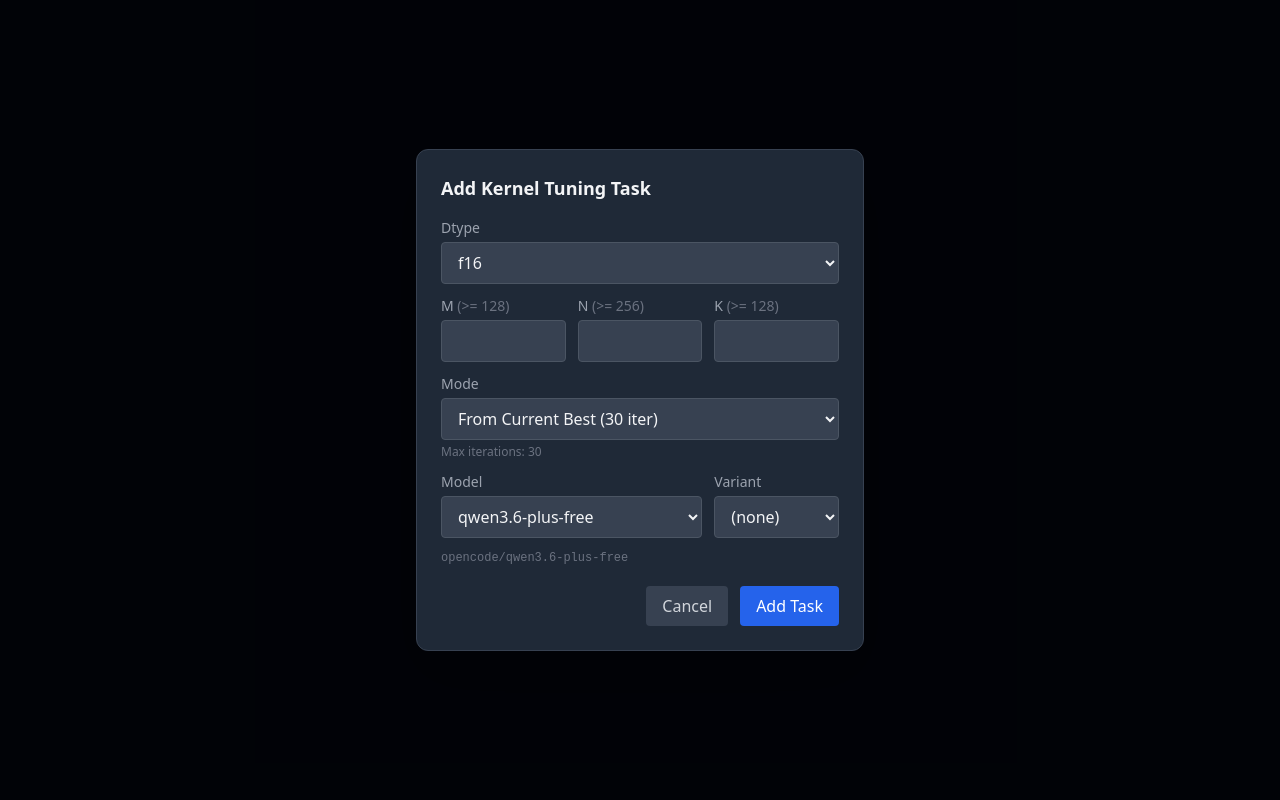
Test: AddTaskForm › shows validation error for N < 256
Type "256" into the 1st number field.
click(503, 341); type("256")  # box [441,320,566,362]
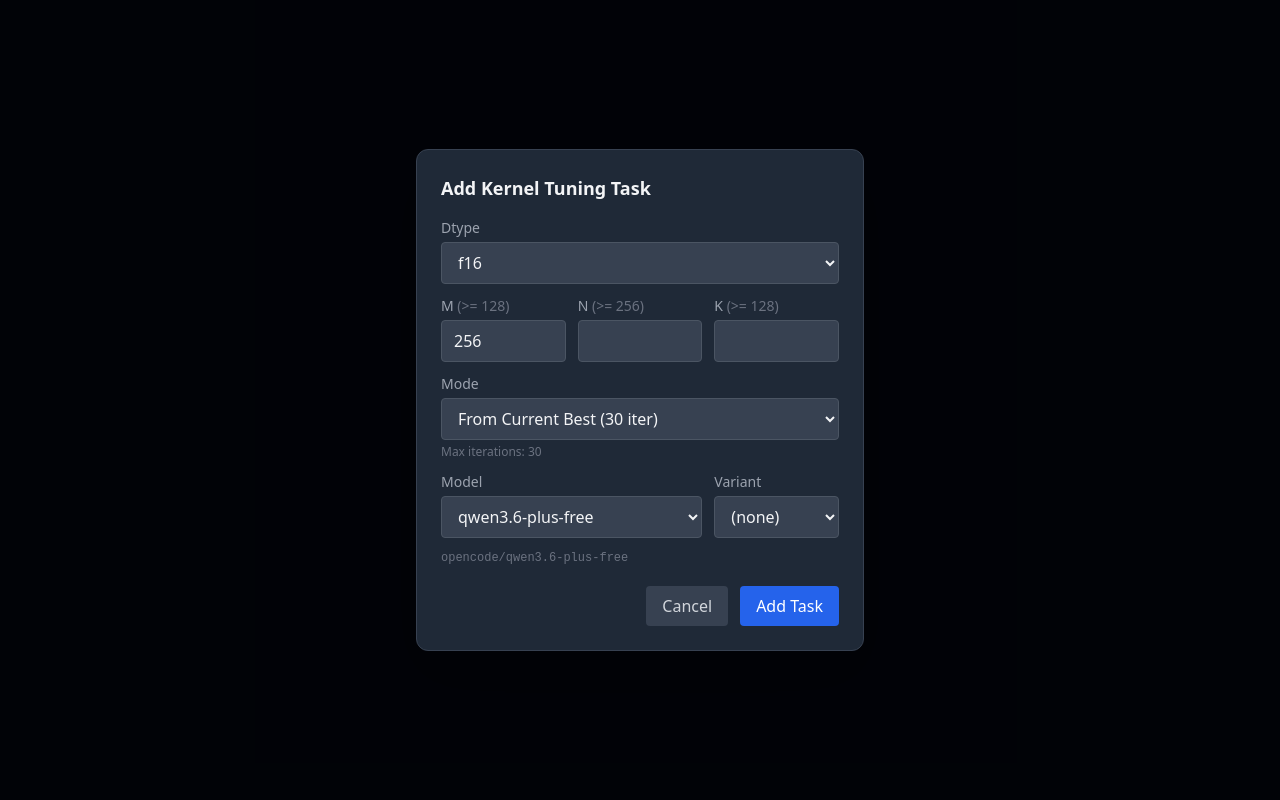
Type "128" into the number field below "256".
click(640, 341); type("128")  # box [578,320,702,362]
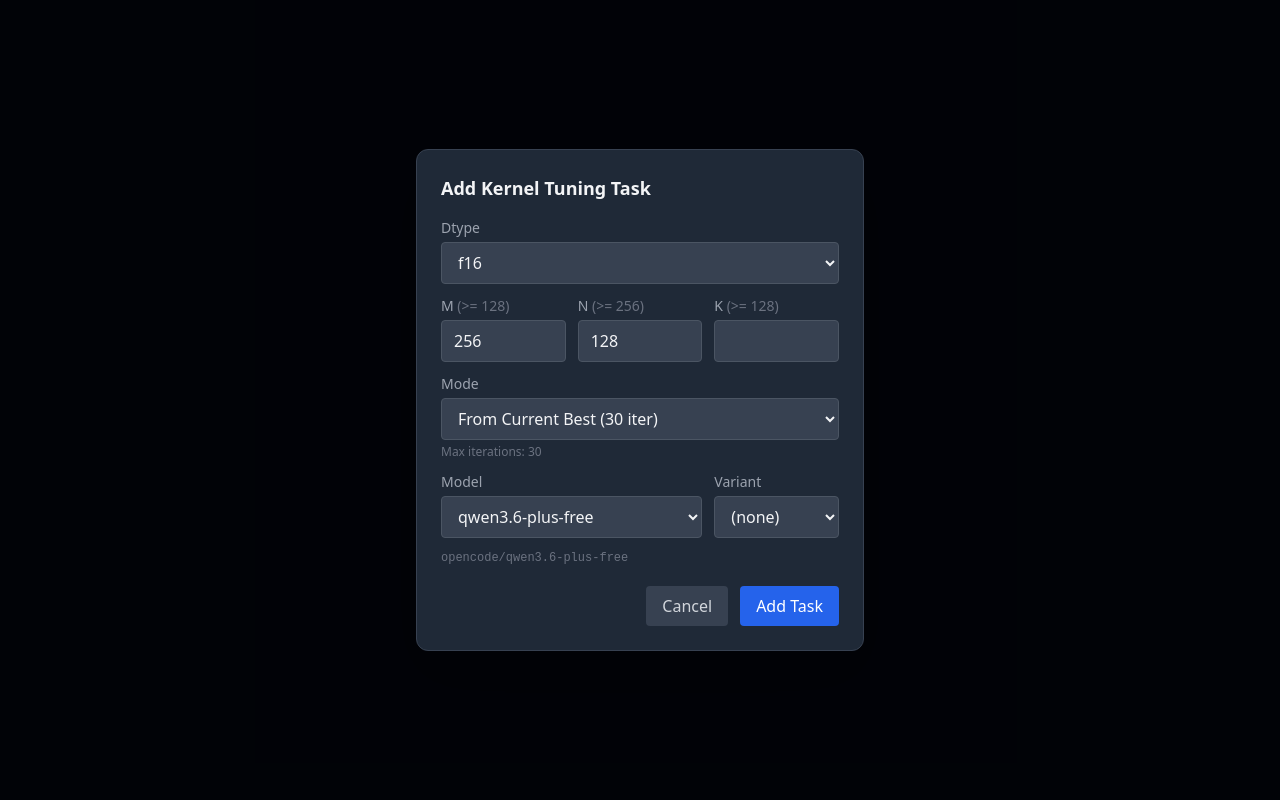
Type "512" into the 3rd number field.
click(777, 341); type("512")  # box [714,320,839,362]
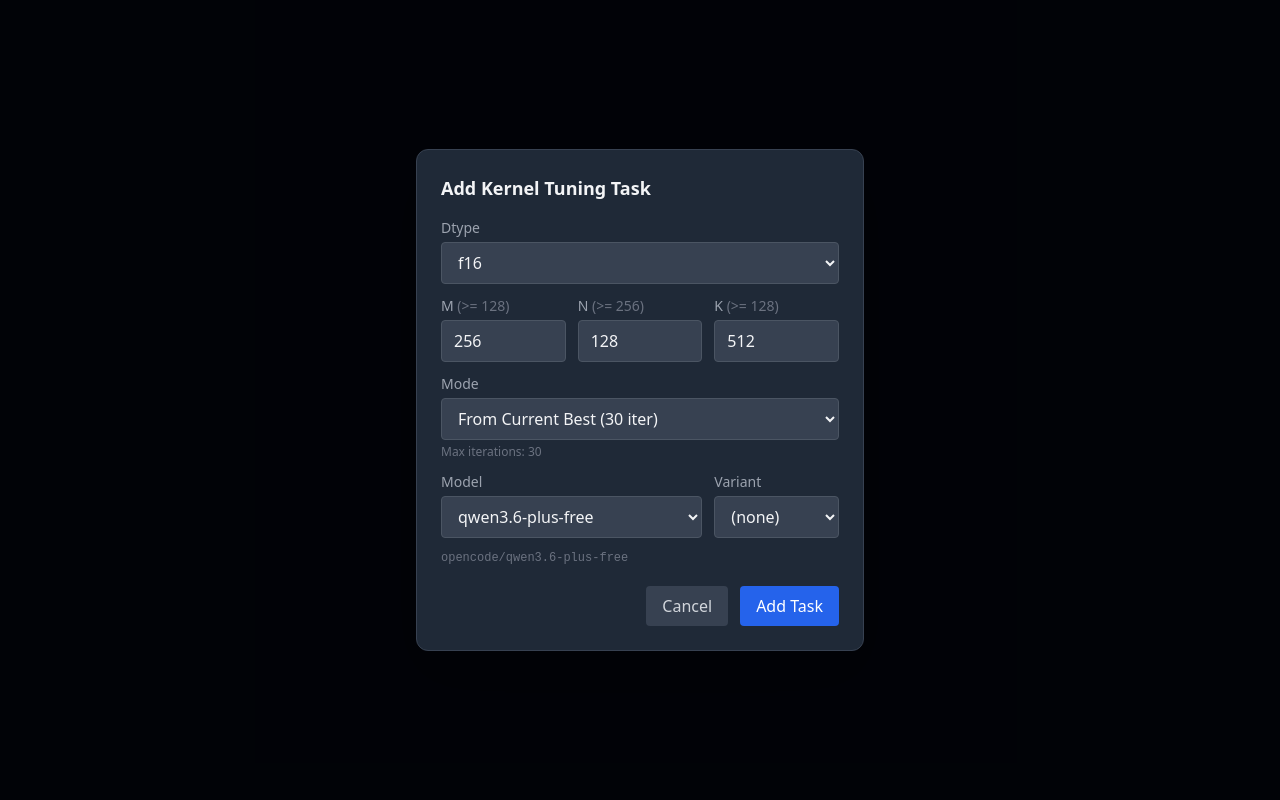
Submit the text "Add Task", box [416,149,864,651]
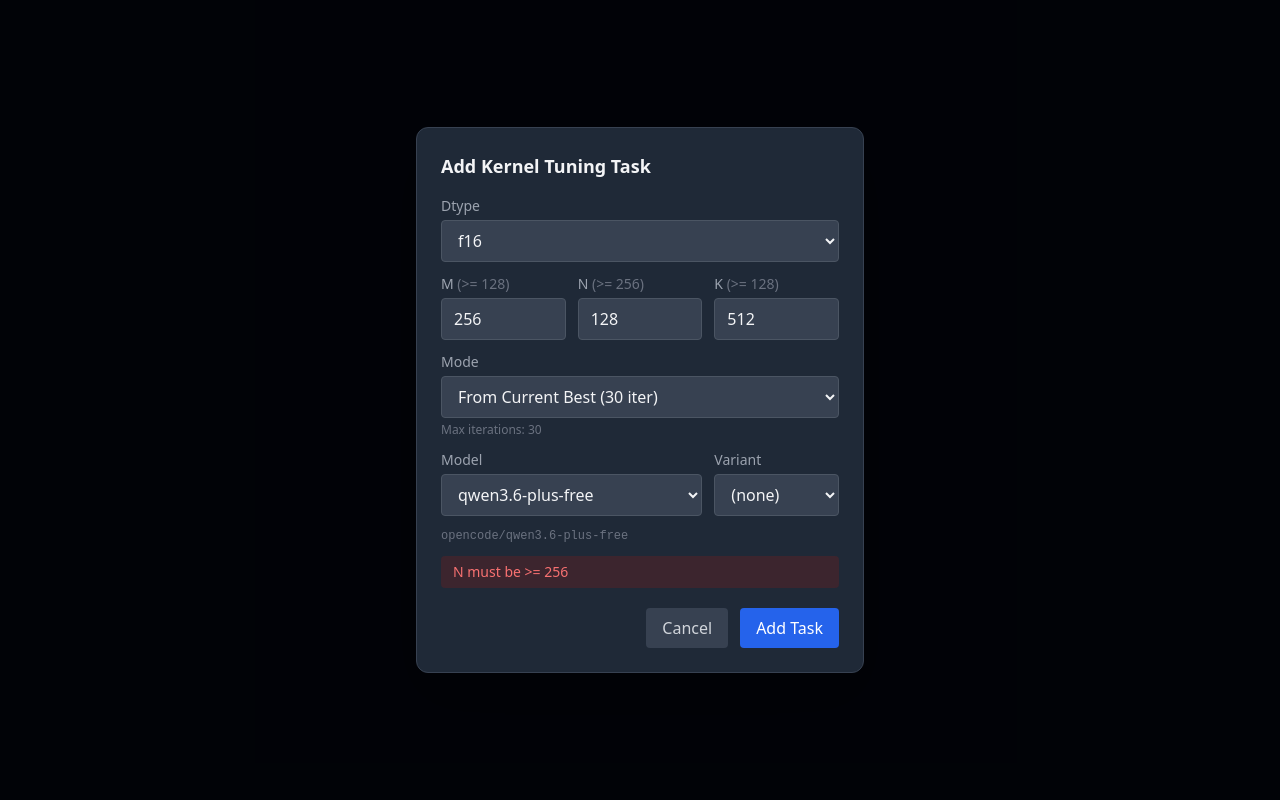
Expected: the text "N must be >= 256" is shown, [441,556,839,588]
